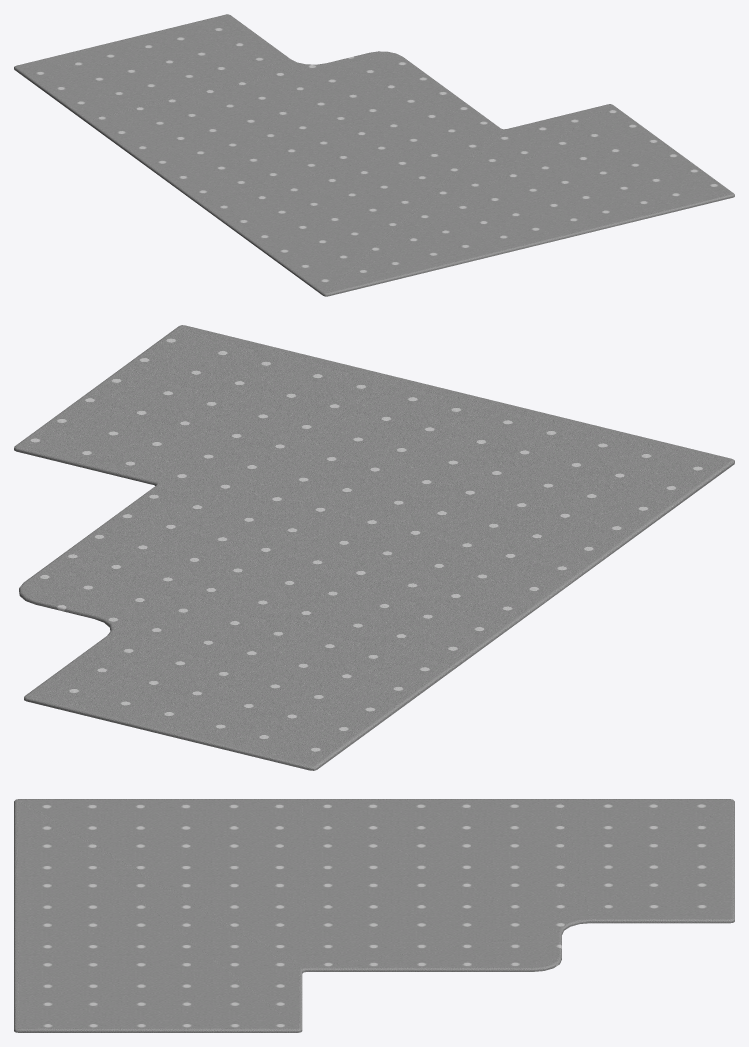
The model's file is lab_carpet_masters_special.dae.
3 renders of one model, top to bottom at view 1: azimuth 30°, elevation 25°; view 2: azimuth 150°, elevation 25°; view 3: azimuth 270°, elevation 25°, orthographic. The views are drawn at different scales.
Visible parts, largest first — view 1: carpet; view 2: carpet; view 3: carpet.
Part boxes in pixels (x1,y1,x2,y2): carpet: (14, 14, 734, 296); carpet: (14, 325, 734, 770); carpet: (14, 799, 734, 1032).
Bounding box in the file's own units: 4.75 × 0.0273 × 6.25.
